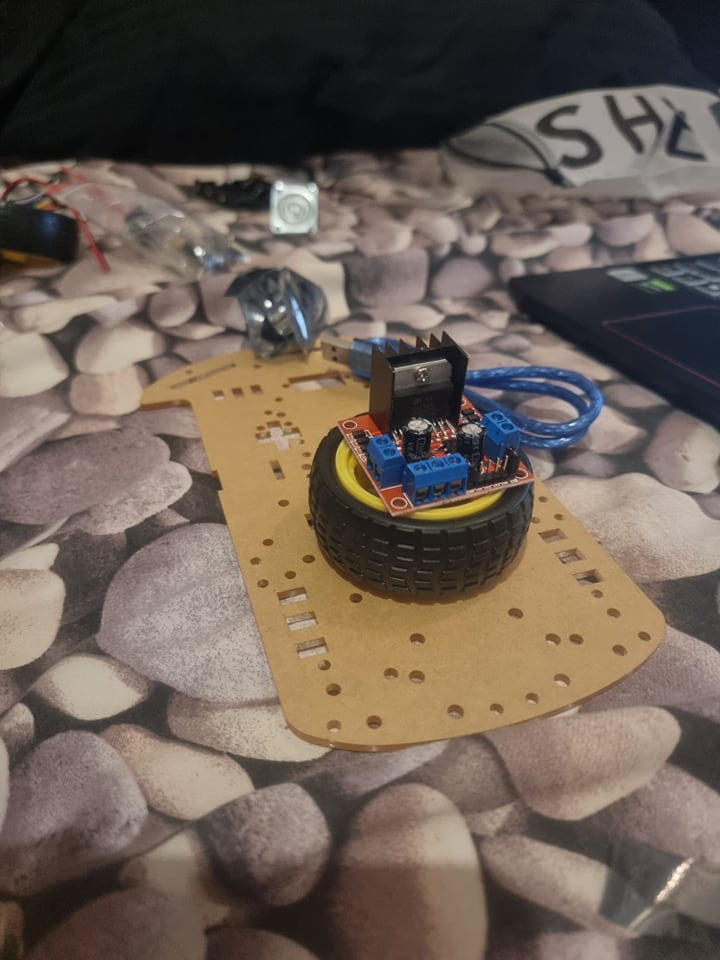MOTOR: (338, 330, 535, 519)
